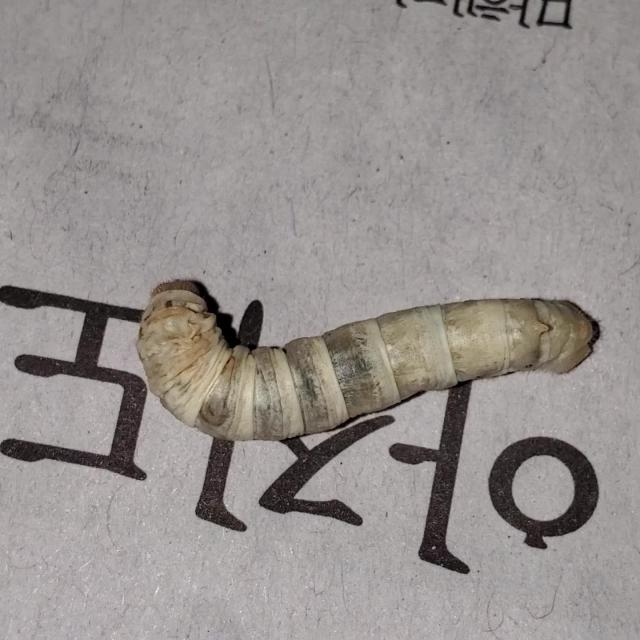Grasserie: (131, 250, 610, 469)
